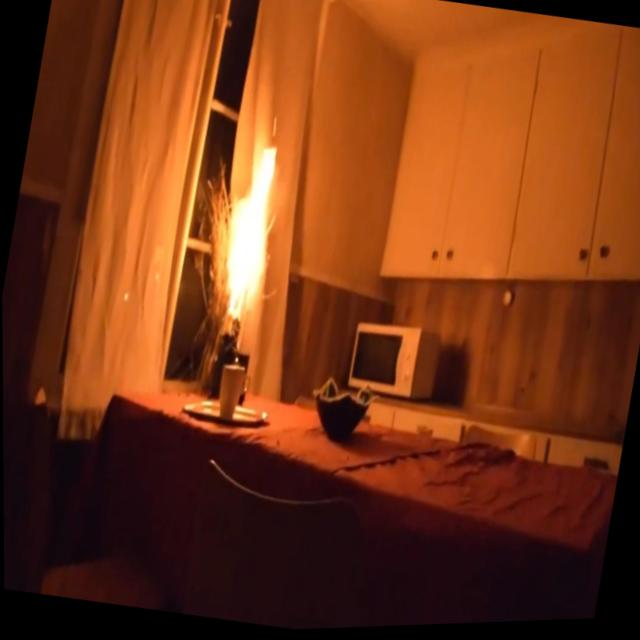fire: (204, 126, 305, 339)
